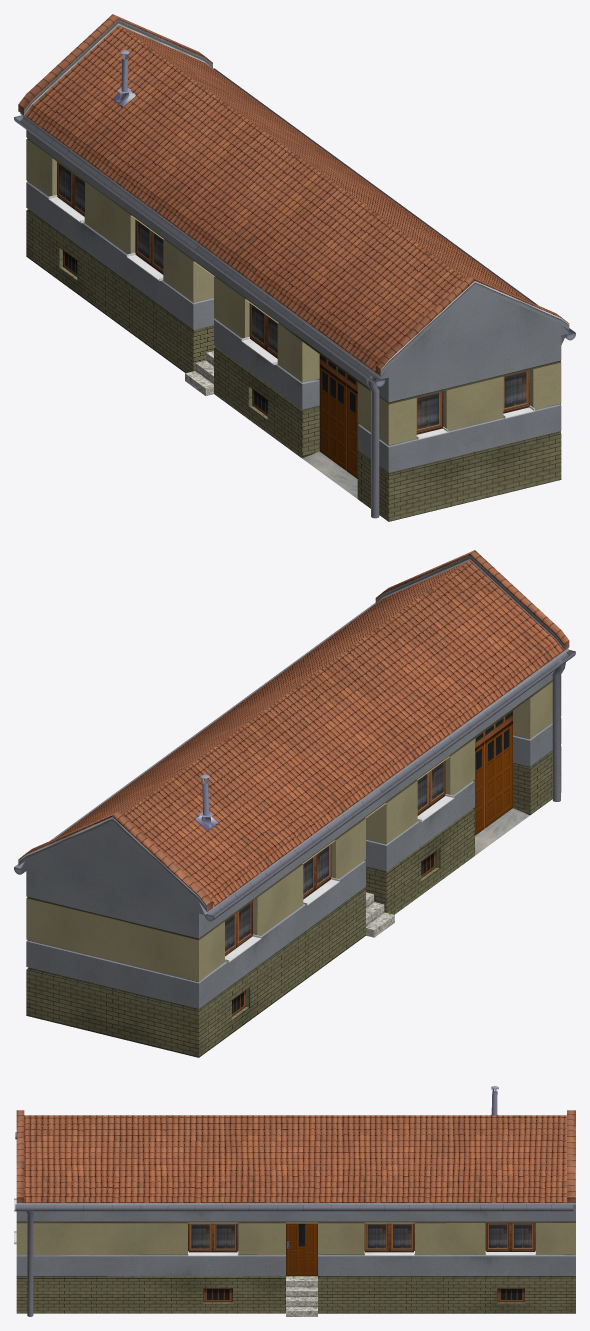
Rendered from european_house_2.glb.
The picture shows the model from 3 angles, top to bottom: view 1: azimuth 30°, elevation 25°; view 2: azimuth 150°, elevation 25°; view 3: azimuth 270°, elevation 25°; orthographic projection. The views are drawn at different scales.
Visible parts, largest first — view 1: Cube.001; view 2: Cube.001; view 3: Cube.001.
Boxes of the visible parts, x1,y1,x2,y2 form: Cube.001: (14,14,575,521); Cube.001: (14,550,575,1057); Cube.001: (14,1086,575,1316).
Bounding box in the file's own units: 2.38 × 2.65 × 7.49.
2 materials, 2 textured.
